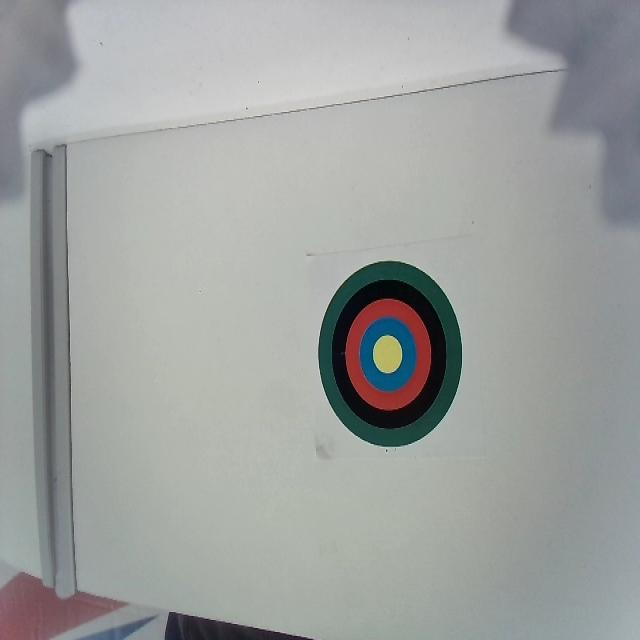cogn: (318, 260, 462, 449)
